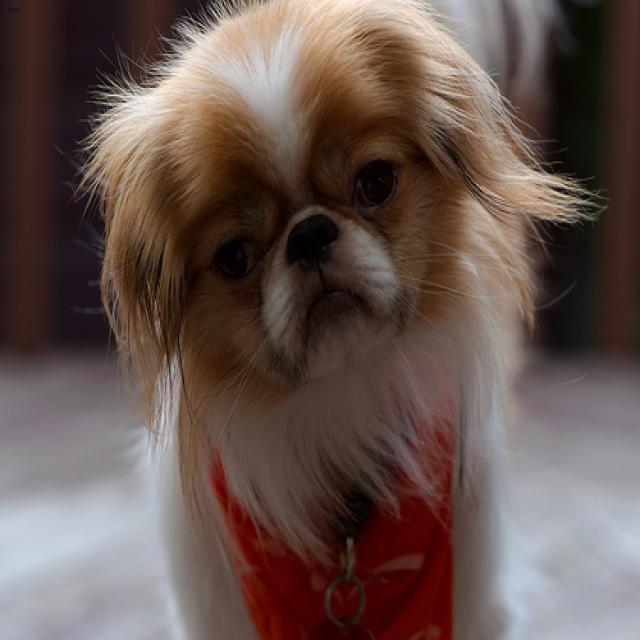dog-japanese_chin: (64, 2, 618, 637)
